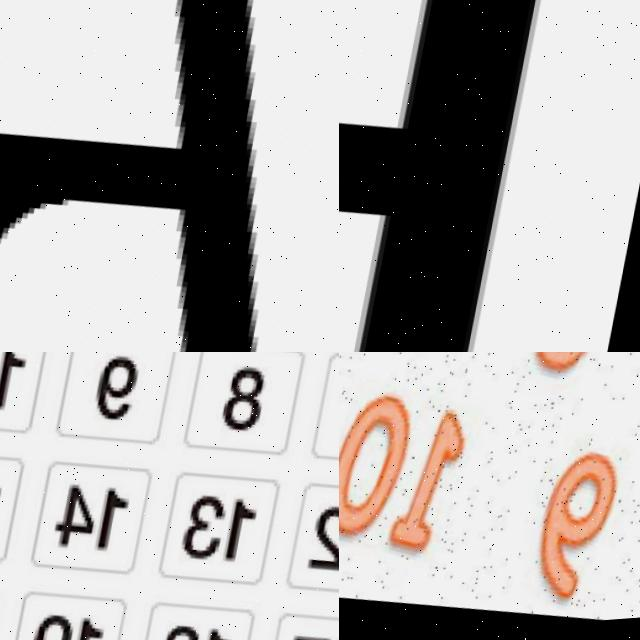0: (339, 376, 431, 549)
1: (386, 389, 490, 570), (221, 487, 268, 582), (95, 487, 135, 565), (0, 352, 33, 431), (64, 611, 112, 640), (196, 623, 245, 640)
2: (303, 500, 339, 581)
3: (175, 492, 230, 577)
4: (49, 481, 104, 562)
6: (521, 352, 640, 393)
8: (214, 362, 274, 443), (151, 610, 208, 640)
9: (518, 439, 636, 618), (90, 352, 148, 435), (20, 610, 81, 640)
F: (339, 0, 564, 352)
R: (0, 0, 339, 352)
